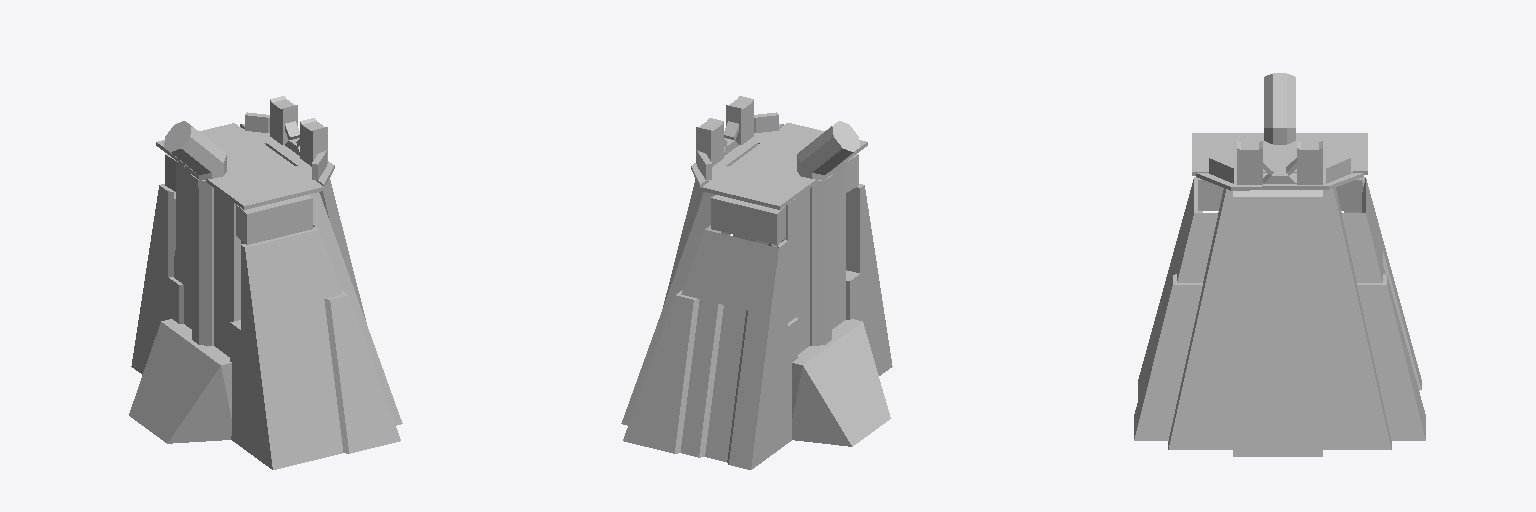
The model's file is 13yard-blitz.obj.
The picture shows the model from 3 angles: view 1: azimuth 30°, elevation 25°; view 2: azimuth 150°, elevation 25°; view 3: azimuth 270°, elevation 25°; orthographic projection.
Parts seen in each view (by area): view 1: entity0_brush37, entity0_brush56, entity0_brush2, entity0_brush57, entity0_brush13, entity0_brush5, entity0_brush38, entity0_brush36, entity0_brush58, entity0_brush15, entity0_brush7, entity0_brush1 (+6 smaller); view 2: entity0_brush56, entity0_brush35, entity0_brush57, entity0_brush13, entity0_brush29, entity0_brush36, entity0_brush23, entity0_brush38, entity0_brush33, entity0_brush37, entity0_brush59, entity0_brush34 (+10 smaller); view 3: entity0_brush55, entity0_brush20, entity0_brush15, entity0_brush17, entity0_brush18, entity0_brush13, entity0_brush16, entity0_brush19, entity0_brush1, entity0_brush60, entity0_brush48, entity0_brush50 (+6 smaller).
Part boxes in pixels (left/top/right/bottom): entity0_brush37: left=230, top=320, right=342, bottom=469; entity0_brush56: left=129, top=319, right=231, bottom=443; entity0_brush2: left=324, top=295, right=400, bottom=453; entity0_brush57: left=176, top=161, right=240, bottom=356; entity0_brush13: left=156, top=123, right=323, bottom=209; entity0_brush5: left=260, top=230, right=342, bottom=312; entity0_brush38: left=192, top=184, right=213, bottom=345; entity0_brush36: left=131, top=262, right=183, bottom=374; entity0_brush58: left=236, top=195, right=312, bottom=244; entity0_brush15: left=308, top=192, right=402, bottom=425; entity0_brush7: left=241, top=299, right=326, bottom=341; entity0_brush1: left=164, top=121, right=226, bottom=174; entity0_brush56: left=792, top=319, right=890, bottom=446; entity0_brush35: left=623, top=295, right=699, bottom=453; entity0_brush57: left=781, top=162, right=845, bottom=353; entity0_brush13: left=702, top=123, right=867, bottom=209; entity0_brush29: left=681, top=230, right=760, bottom=312; entity0_brush36: left=751, top=317, right=797, bottom=469; entity0_brush23: left=705, top=305, right=745, bottom=461; entity0_brush38: left=810, top=184, right=831, bottom=345; entity0_brush33: left=729, top=337, right=766, bottom=469; entity0_brush37: left=846, top=262, right=892, bottom=375; entity0_brush59: left=711, top=195, right=785, bottom=244; entity0_brush34: left=681, top=325, right=714, bottom=457; entity0_brush55: left=1233, top=190, right=1322, bottom=456; entity0_brush20: left=1323, top=187, right=1391, bottom=449; entity0_brush15: left=1168, top=188, right=1232, bottom=449; entity0_brush17: left=1134, top=283, right=1202, bottom=440; entity0_brush18: left=1357, top=283, right=1425, bottom=440; entity0_brush13: left=1192, top=133, right=1367, bottom=175; entity0_brush16: left=1177, top=213, right=1217, bottom=282; entity0_brush19: left=1342, top=213, right=1382, bottom=282; entity0_brush1: left=1264, top=73, right=1295, bottom=127; entity0_brush60: left=1196, top=173, right=1363, bottom=190; entity0_brush48: left=1237, top=143, right=1262, bottom=184; entity0_brush50: left=1297, top=143, right=1322, bottom=184.
Size of the model in its own units: 912 by 1230 by 1088.